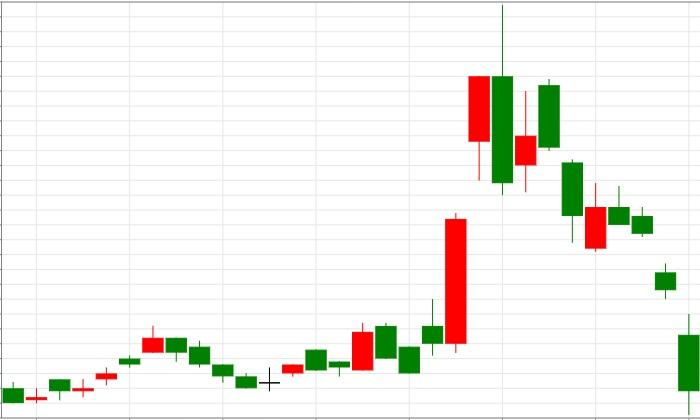bearish_engulfing_fall: (399, 5, 514, 373)
